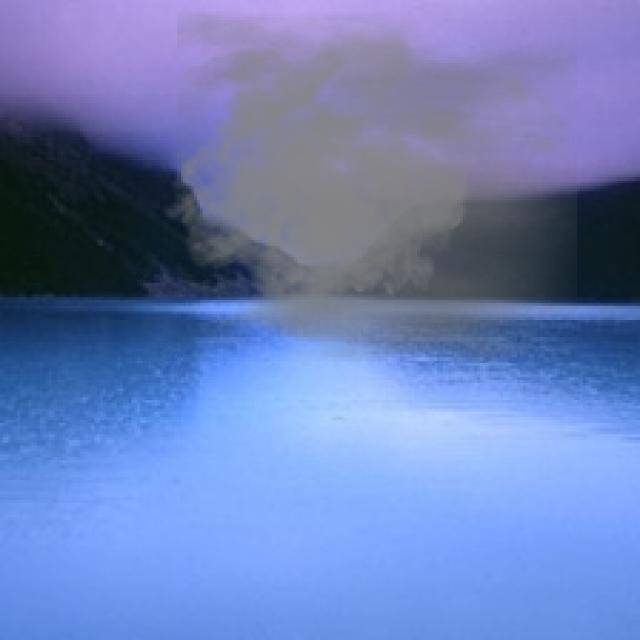Smoke: (162, 11, 578, 363)
